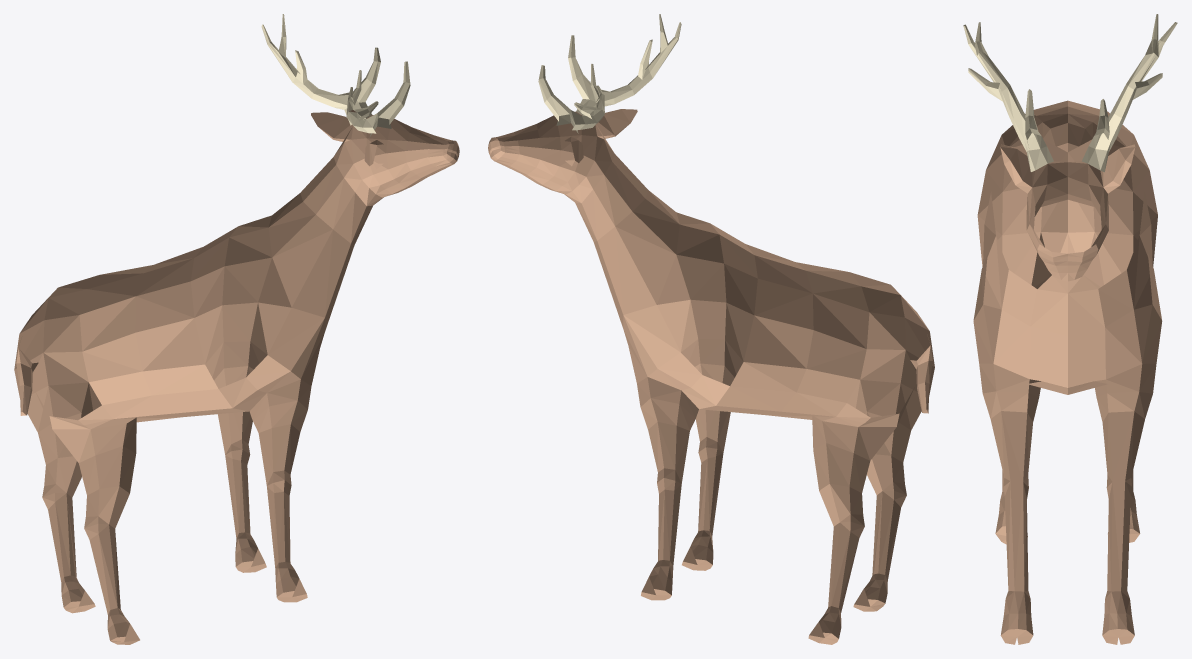
Rendered from 1c07cf31-452a-4f3f-86df-1352466bec88.glb.
3 renders of one model, left to right at view 1: azimuth 30°, elevation 25°; view 2: azimuth 150°, elevation 25°; view 3: azimuth 270°, elevation 25°, orthographic. The views are drawn at different scales.
Visible parts, largest first — view 1: Deer; view 2: Deer; view 3: Deer.
Boxes of the visible parts, x1,y1,x2,y2 form: Deer: (14,14,459,644); Deer: (488,14,934,644); Deer: (963,14,1177,644).
Bounding box in the file's own units: 195 × 226 × 67.11.
